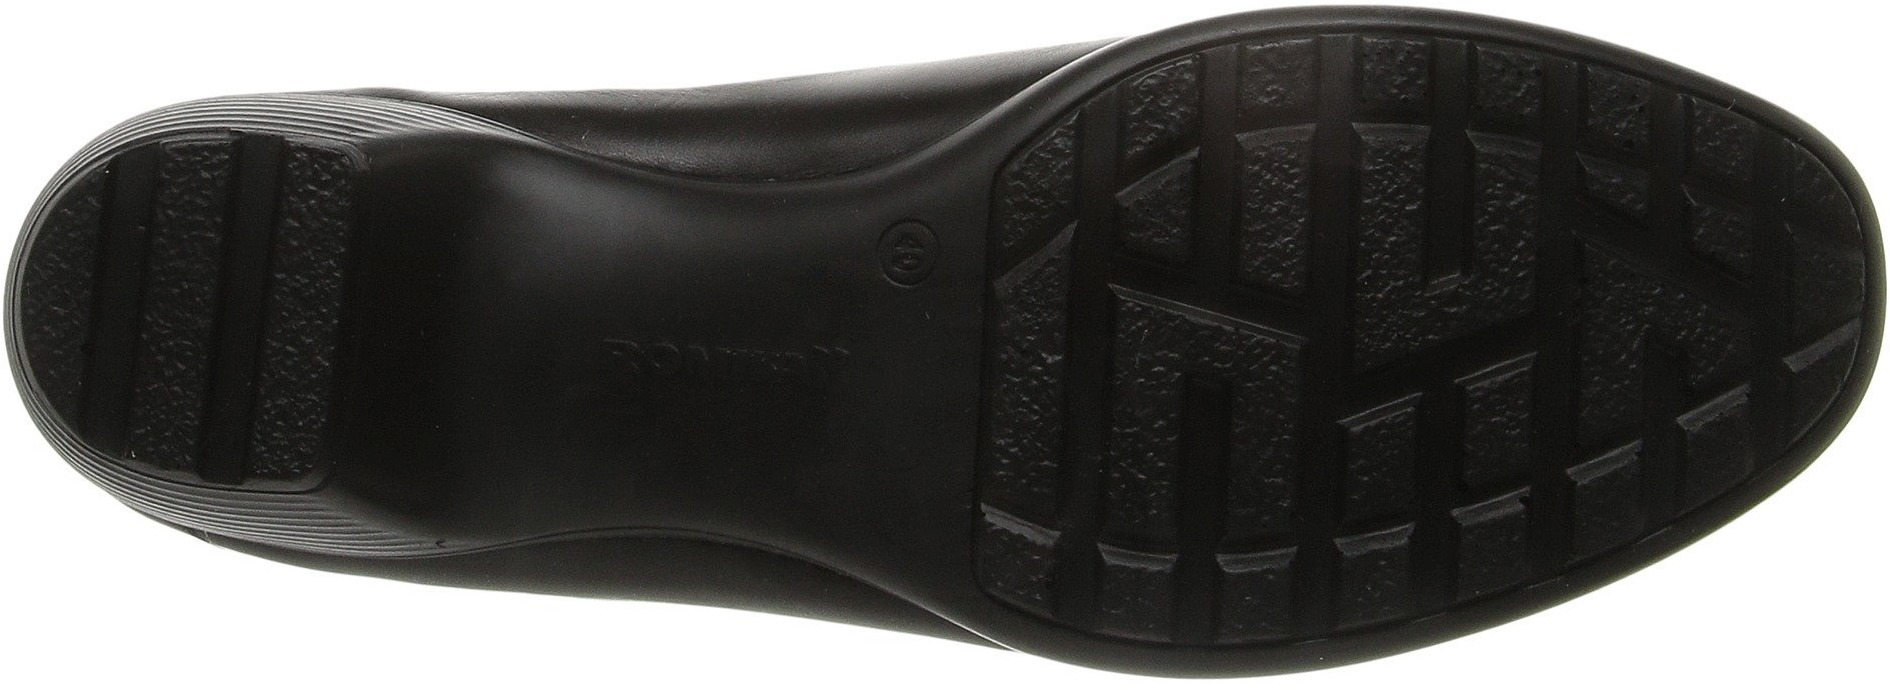quad: (90, 163, 345, 409), (1342, 380, 1546, 587), (1104, 378, 1305, 559), (932, 273, 1096, 444), (1596, 59, 1742, 193), (1246, 19, 1389, 119)
